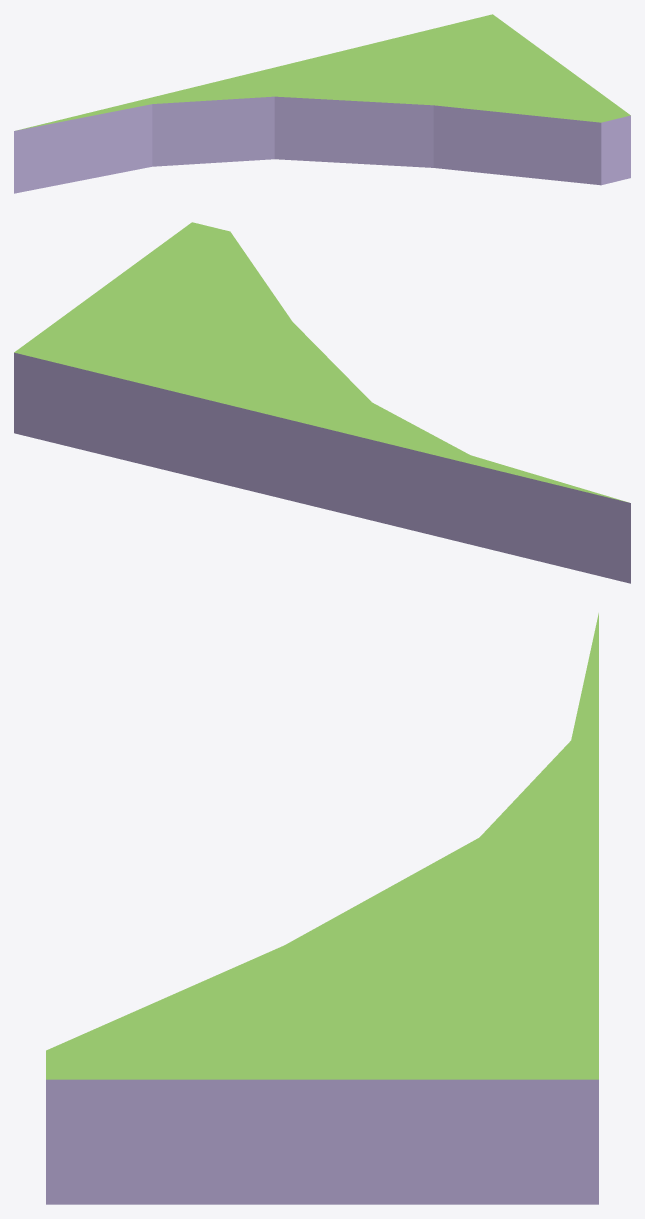
The model's file is Tiered_Grass_45_Degrees_Curve_Inner_Inside_1x2.fbx.
The picture shows the model from 3 angles, top to bottom: view 1: azimuth 30°, elevation 25°; view 2: azimuth 150°, elevation 25°; view 3: azimuth 270°, elevation 25°; orthographic projection. The views are drawn at different scales.
Visible parts, largest first — view 1: Tiered_Grass_45_Degrees_Curve_Inner_Inside_1x2; view 2: Tiered_Grass_45_Degrees_Curve_Inner_Inside_1x2; view 3: Tiered_Grass_45_Degrees_Curve_Inner_Inside_1x2.
Part boxes in pixels (x1,y1,x2,y2): Tiered_Grass_45_Degrees_Curve_Inner_Inside_1x2: (14, 14, 630, 193); Tiered_Grass_45_Degrees_Curve_Inner_Inside_1x2: (14, 222, 630, 583); Tiered_Grass_45_Degrees_Curve_Inner_Inside_1x2: (46, 613, 598, 1204).
Bounding box in the file's own units: 200 × 25 × 100.
